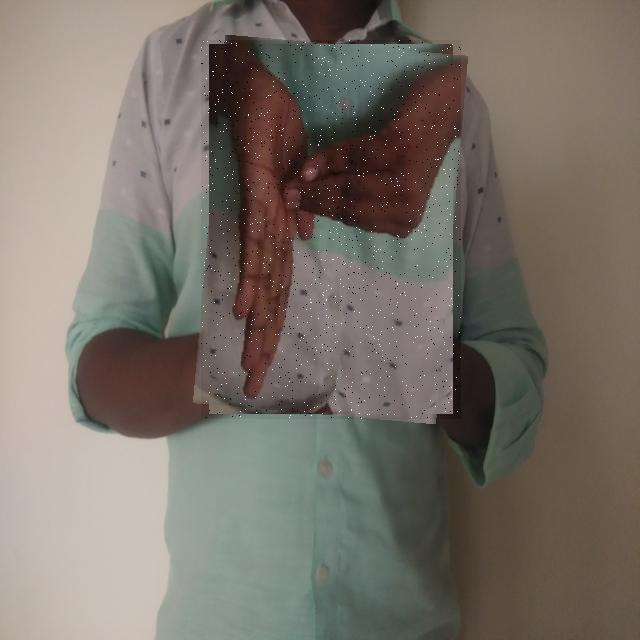Z: (201, 40, 461, 419)
